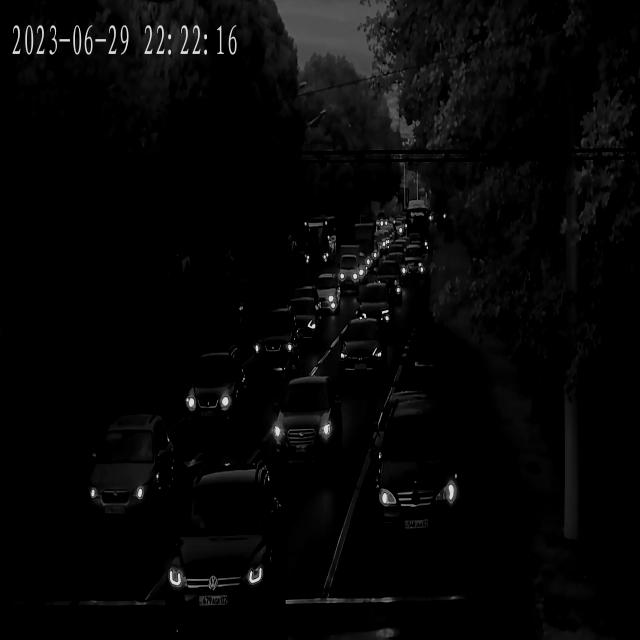Bus: (300, 216, 334, 264), (403, 204, 434, 251)
Car: (161, 474, 283, 626), (367, 396, 466, 530), (74, 415, 174, 536), (272, 375, 343, 467), (180, 349, 250, 435), (249, 312, 302, 374), (336, 320, 390, 380), (268, 299, 321, 346), (353, 284, 395, 333), (303, 275, 341, 316), (289, 286, 328, 320), (368, 272, 403, 305), (322, 268, 360, 295), (331, 258, 364, 286), (376, 258, 406, 283), (345, 243, 377, 266), (340, 249, 369, 274), (400, 258, 427, 282)
